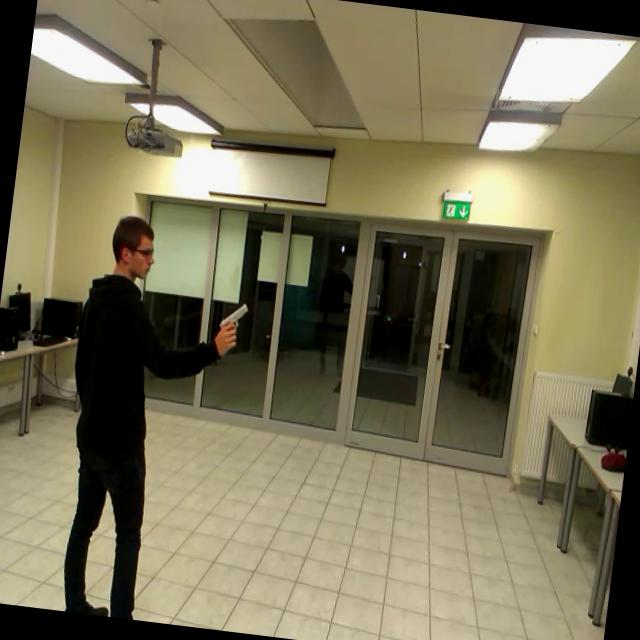handgun: (205, 288, 255, 359)
